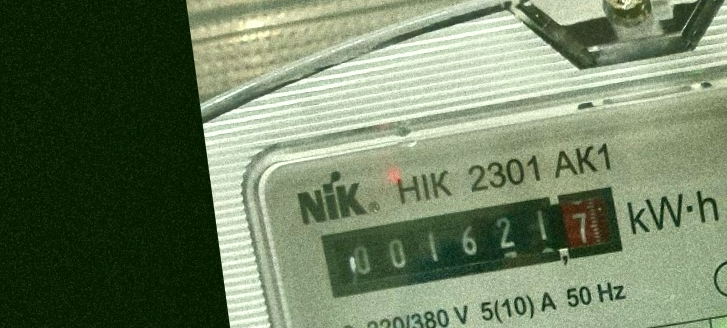0: (384, 233, 410, 272), (349, 240, 374, 276)
1: (423, 226, 442, 264), (532, 204, 551, 242)
2: (493, 212, 518, 251)
6: (457, 221, 480, 258)
7: (568, 207, 592, 246)
screen: (314, 182, 630, 303)
